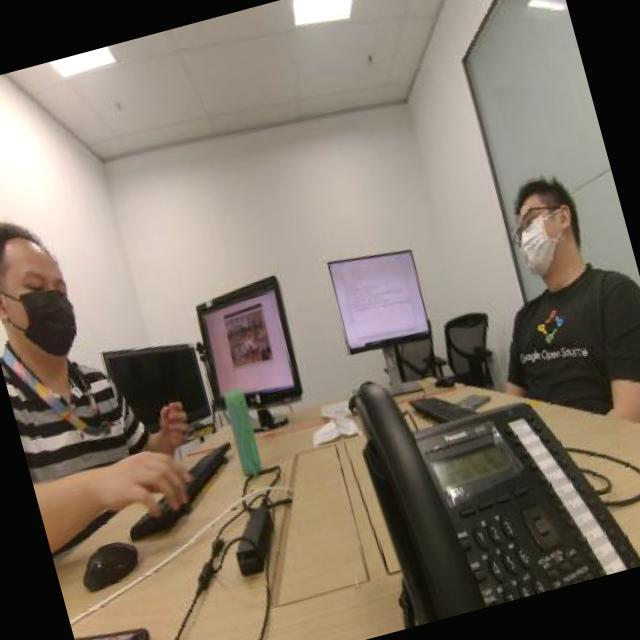Person: (0, 163, 153, 519), (474, 143, 640, 453)
